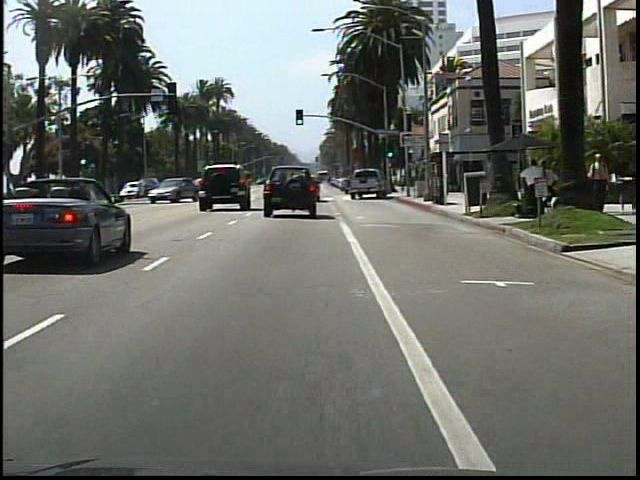person: (518, 157, 545, 220), (584, 150, 610, 215), (538, 157, 561, 220)
